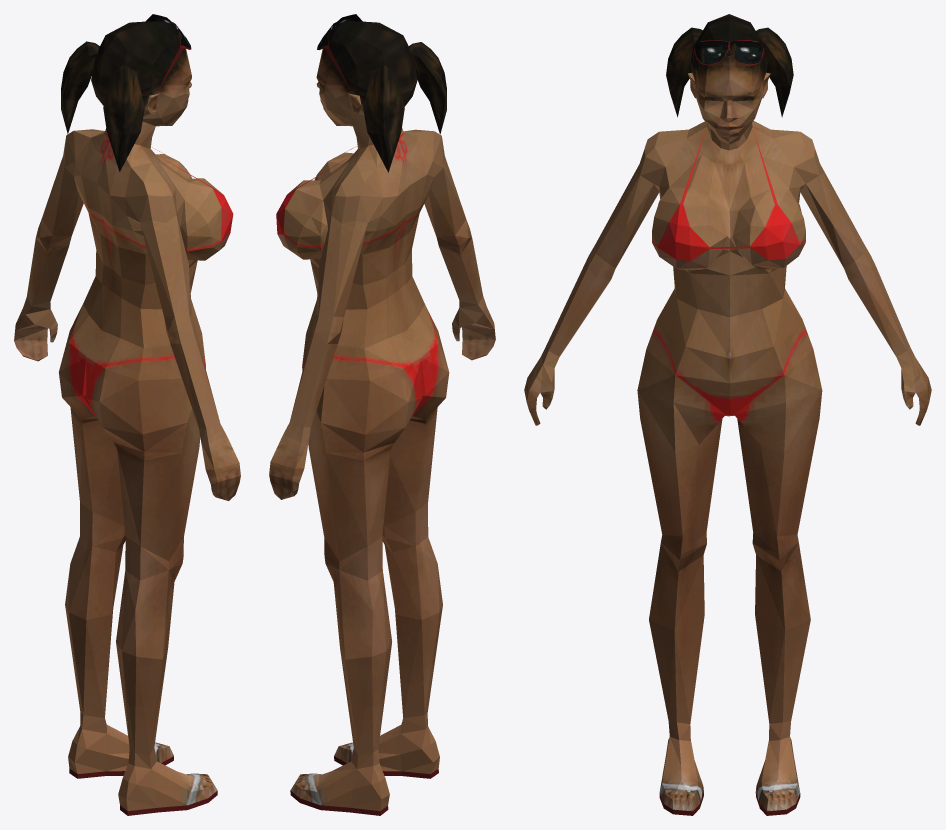
The model's file is hfybe.obj.
3 views of the same model, side by side, from view 1: azimuth 30°, elevation 25°; view 2: azimuth 150°, elevation 25°; view 3: azimuth 270°, elevation 25° (orthographic).
Parts seen in each view (by area): view 1: _Pelvis; view 2: _Pelvis; view 3: _Pelvis.
Boxes of the visible parts, <box> form: _Pelvis: <box>14,14,240,815</box>; _Pelvis: <box>269,14,495,815</box>; _Pelvis: <box>524,14,931,815</box>.
Bounding box in the file's own units: 0.3214 × 1.8 × 0.8627.
1 material, 1 textured.
